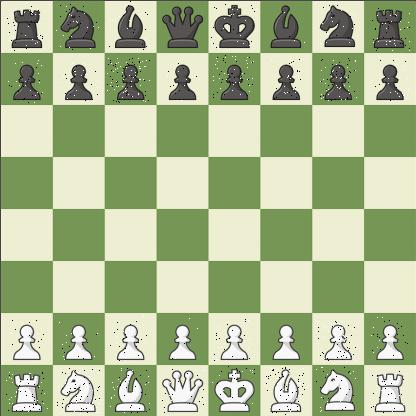Black Bishop: (108, 1, 149, 51), (266, 4, 307, 49)
Black Castle: (372, 7, 412, 52)
Black King: (211, 3, 258, 51)
Black Knight: (320, 3, 360, 52)
Black Pawn: (107, 58, 151, 104), (213, 55, 255, 99), (372, 57, 410, 102), (320, 58, 358, 102), (60, 60, 99, 102), (164, 58, 200, 103), (8, 60, 44, 104), (270, 59, 302, 102)
Black Queen: (160, 3, 207, 51)
White Bishop: (266, 367, 306, 416), (110, 367, 151, 414)
White Castle: (6, 370, 49, 413), (7, 6, 46, 52), (371, 371, 407, 414)
White King: (212, 366, 256, 414)
White Knight: (56, 2, 100, 52), (57, 368, 101, 415), (316, 368, 357, 414)
White Pawn: (160, 316, 200, 364), (109, 316, 150, 362), (58, 317, 99, 362), (265, 318, 305, 362), (371, 316, 409, 362), (318, 321, 358, 363), (214, 318, 252, 362), (10, 318, 45, 362)
White Queen: (160, 367, 206, 415)
